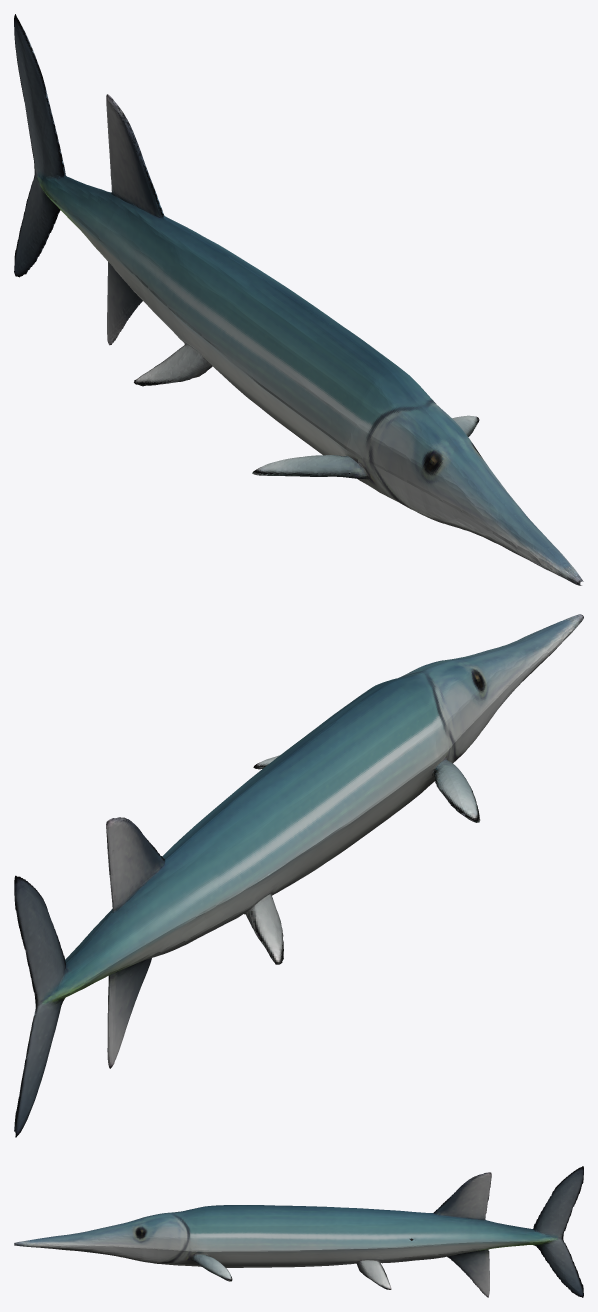
The picture shows the model from 3 angles, top to bottom: view 1: azimuth 30°, elevation 25°; view 2: azimuth 150°, elevation 25°; view 3: azimuth 270°, elevation 25°; orthographic projection. The views are drawn at different scales.
Visible parts, largest first — view 1: world; view 2: world; view 3: world.
Part boxes in pixels (<box>): world: <box>14,14,583,585</box>; world: <box>14,614,583,1137</box>; world: <box>14,1166,583,1297</box>.
Size of the model in its own units: 0.2299 by 0.2551 by 0.9996.
Materials: 1 (1 with a texture image).
